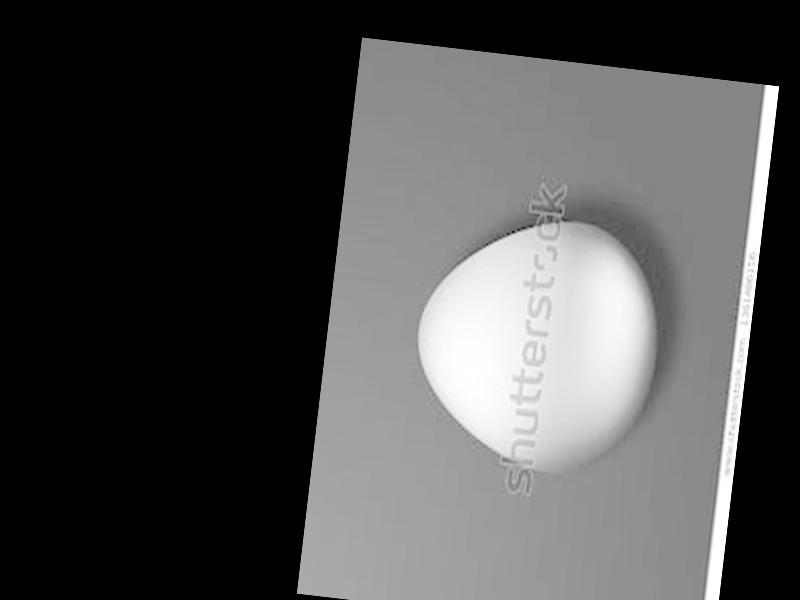Eggs: (402, 205, 667, 482)
